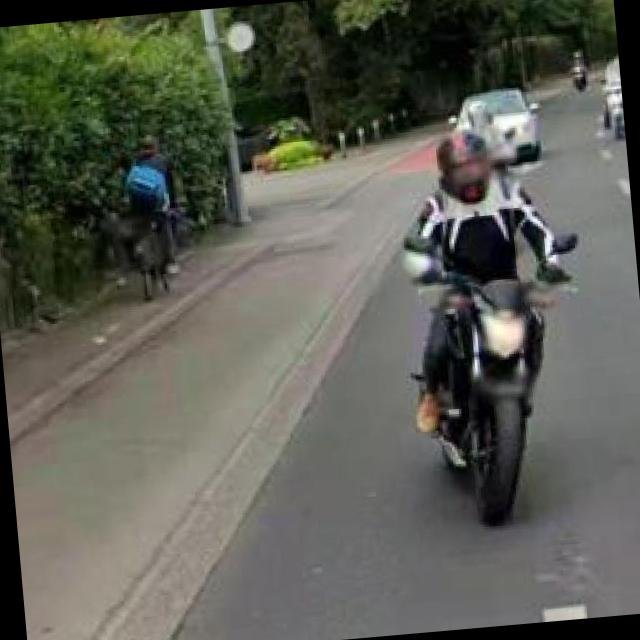bike: (427, 271, 563, 526), (452, 89, 543, 160)
